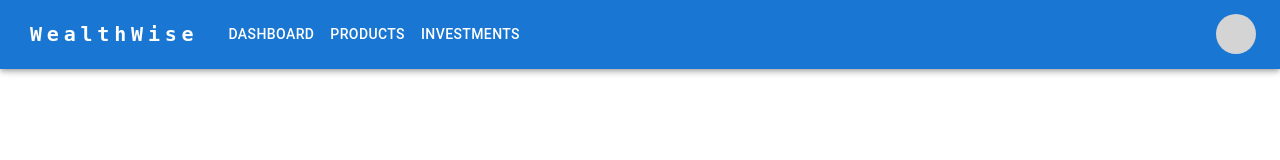
Scenario: Navbar › logo click navigates to /dashboard
Click the button "WealthWise" at (114, 34), box [24, 17, 204, 51]
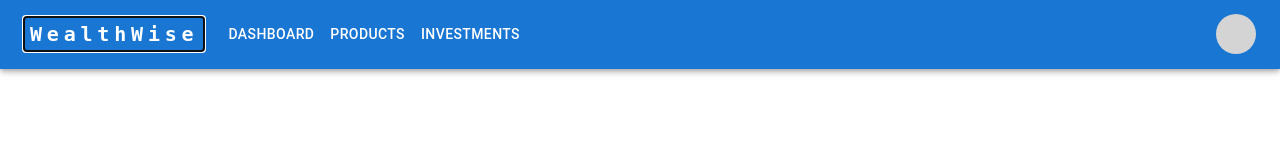
Now the text "Dashboard Page" is shown, box [0, 2, 120, 21]
